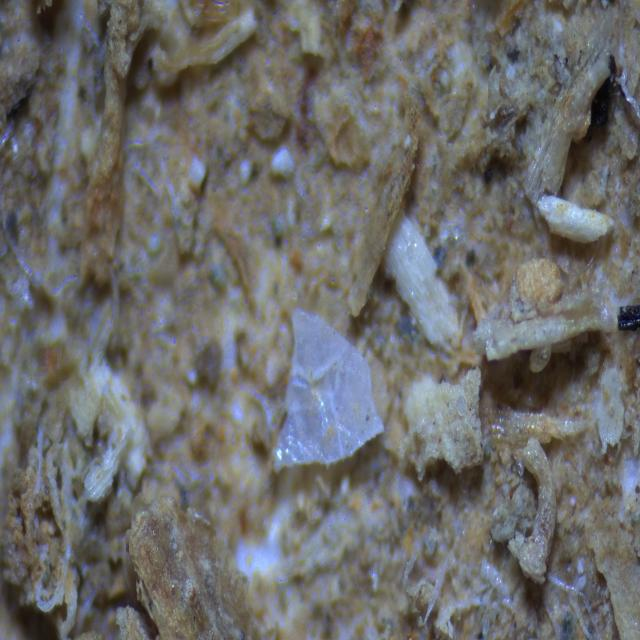microplastic: (261, 298, 397, 482)
